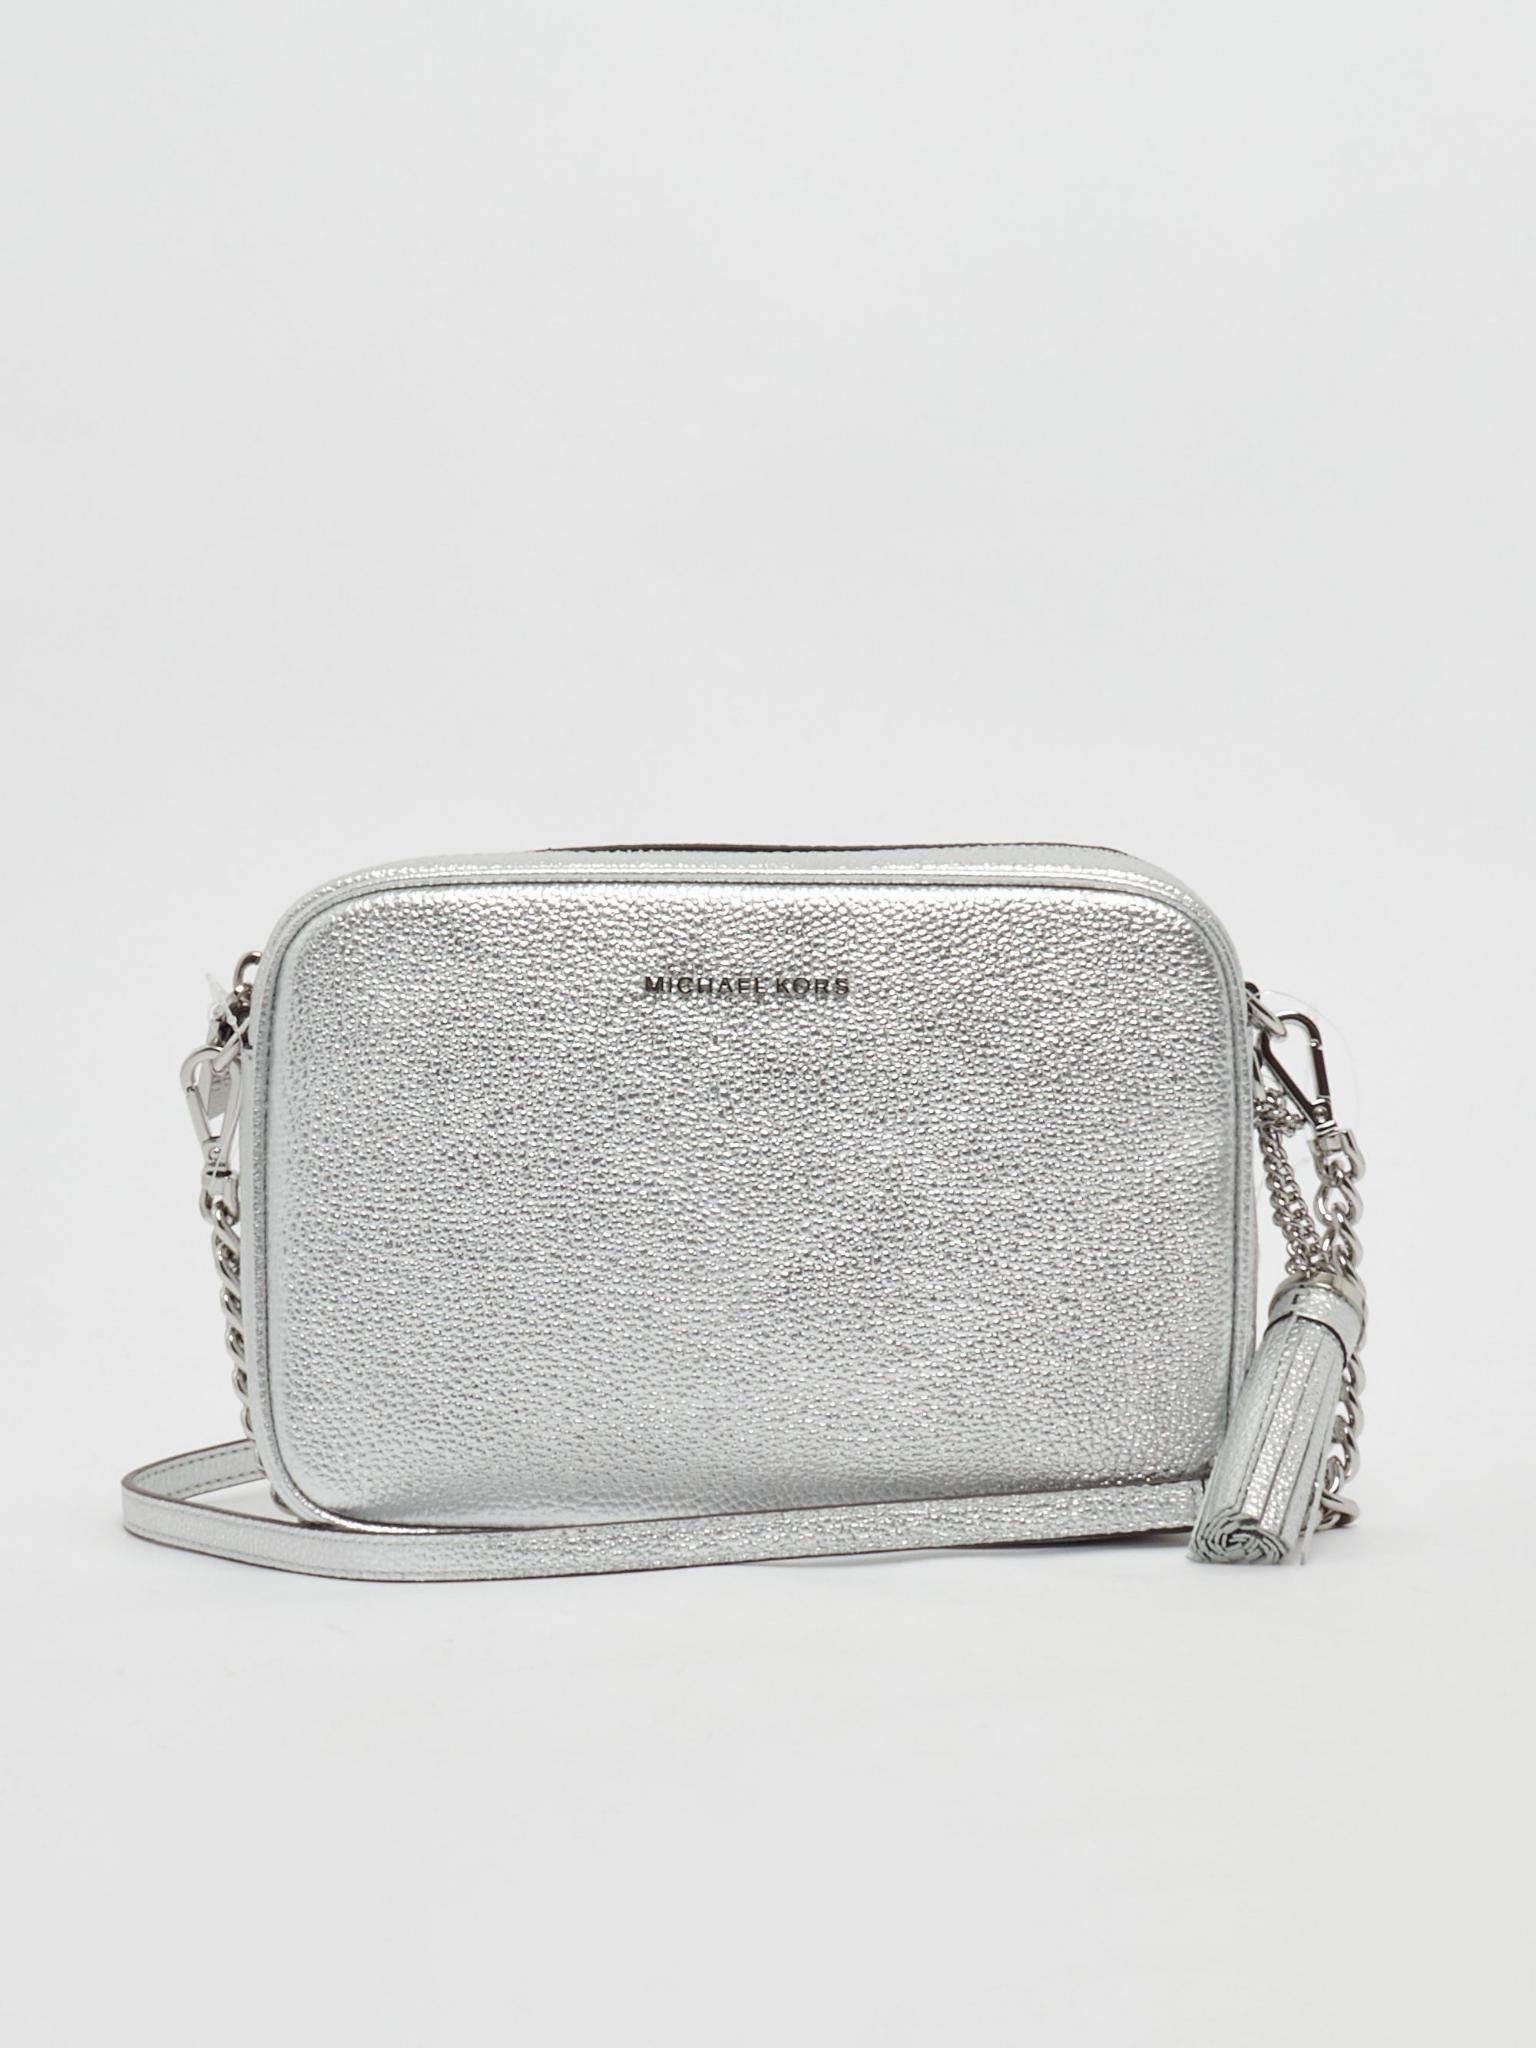MICHAEL-KORS: (644, 976, 850, 997)
